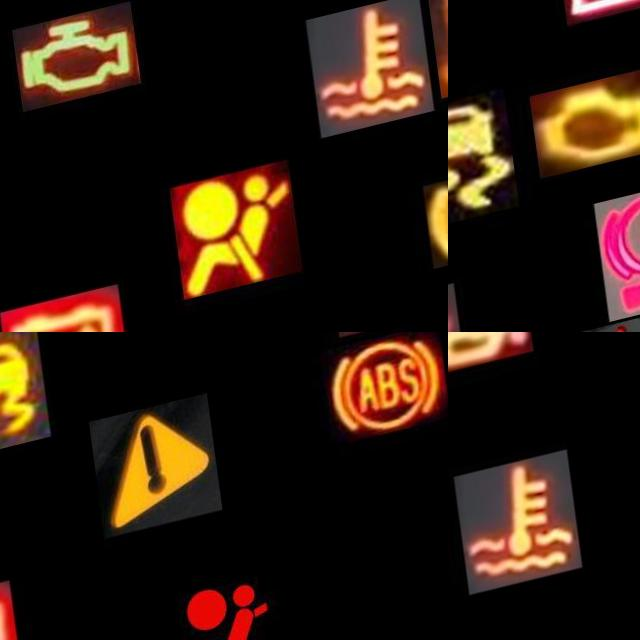Central Warning lamp: (80, 410, 210, 550)
Engine cooling system: (302, 15, 427, 155), (448, 473, 564, 613)
